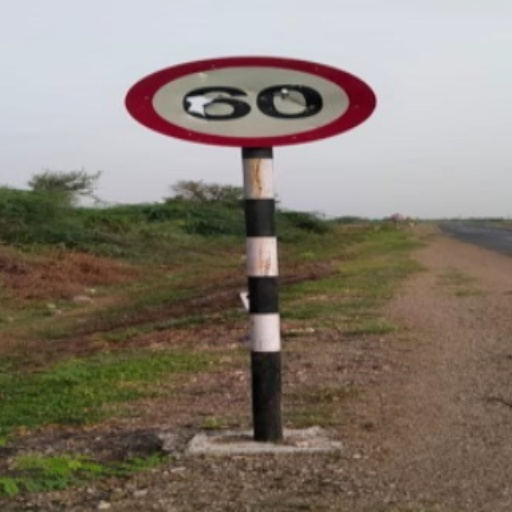Speed limit: (118, 46, 393, 197)
